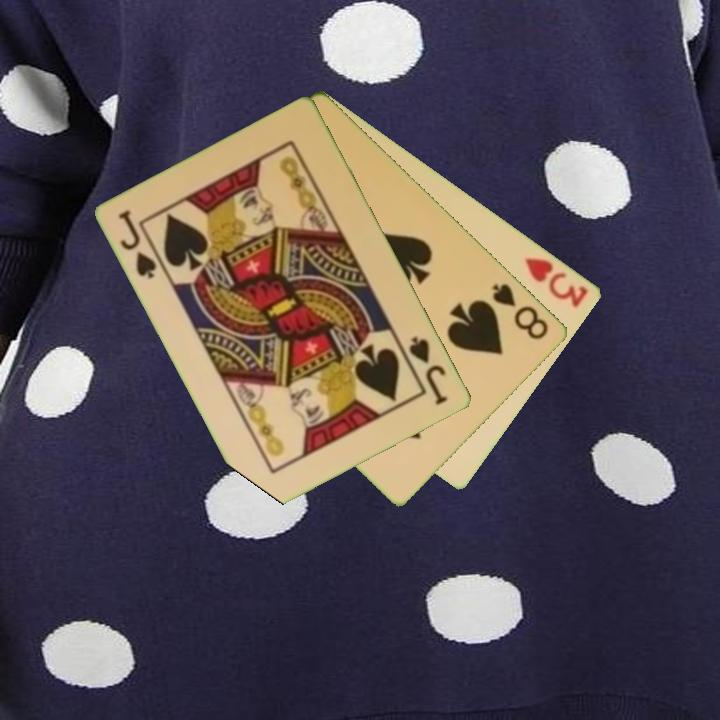3h: (521, 254, 592, 311)
8s: (489, 280, 552, 343)
Js: (115, 206, 168, 283), (406, 332, 451, 409)
